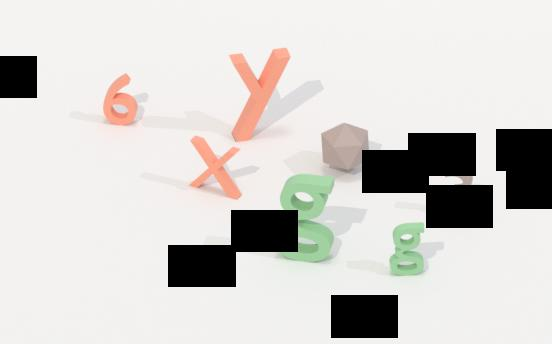3: (442, 162, 476, 220)
6: (101, 72, 141, 128)
Y: (229, 44, 292, 146)
dagiac: (319, 119, 373, 174)
g: (273, 171, 338, 264), (391, 220, 427, 280)
x: (188, 134, 245, 203)
